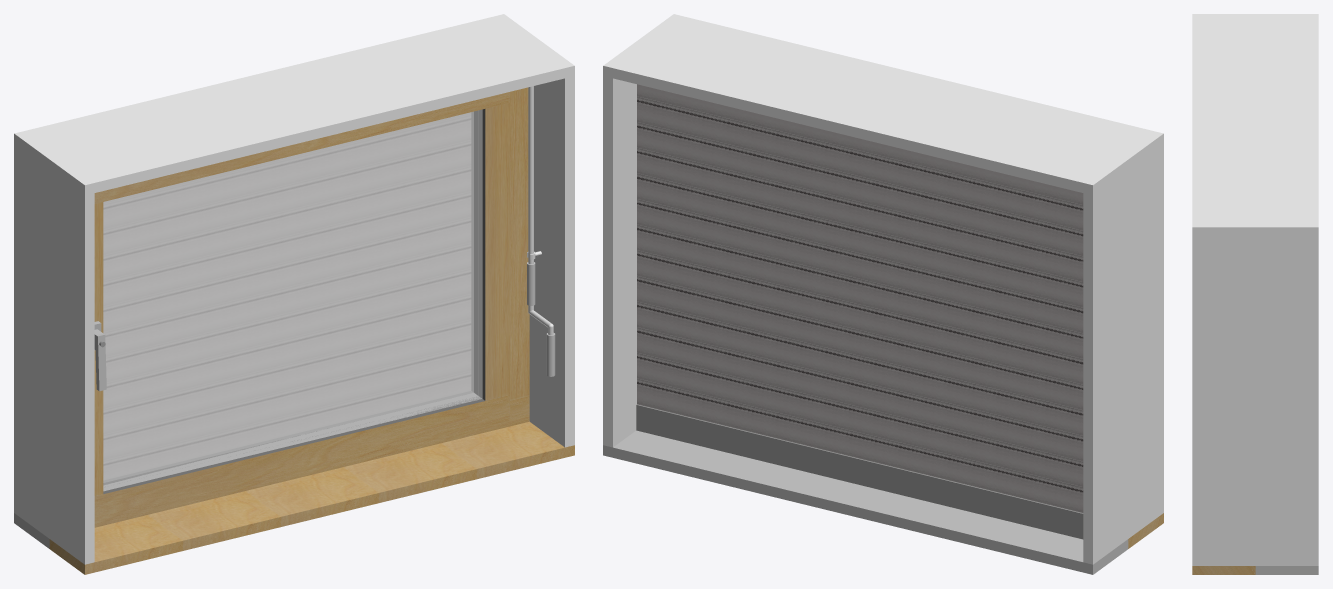
The model's file is sweethome3d-contributions-small-window.glb.
3 renders of one model, left to right at view 1: azimuth 30°, elevation 25°; view 2: azimuth 150°, elevation 25°; view 3: azimuth 270°, elevation 25°, orthographic. The views are drawn at different scales.
Parts seen in each view (by area): view 1: sweethome3d_opening_on_hinge_1_Window_Pane_wall_1_1_1_28_174, sweethome3d_opening_on_rail_1_Roller_Shutter_Foot_back_119_2, 46, 58, sweethome3d_opening_on_hinge_1_Inside_Inner_Frame_top_77_125, 70, sweethome3d_opening_on_hinge_1_Outside_Inner_Frame_top_59_14, 6, sweethome3d_opening_on_hinge_2_Roller_Shutter_Crank_Cylinde., sweethome3d_opening_on_hinge_1_Window_Handle_back_86_116; view 2: sweethome3d_opening_on_rail_1_Roller_Shutter_Foot_back_119_2, 58, 46, 76; view 3: 58, 46, 70, 76.
Boxes of the visible parts, x1,y1,x2,y2 form: sweethome3d_opening_on_hinge_1_Window_Pane_wall_1_1_1_28_174: (103,109,482,491); sweethome3d_opening_on_rail_1_Roller_Shutter_Foot_back_119_2: (103,112,470,479); 46: (49,40,574,564); 58: (14,14,538,538); sweethome3d_opening_on_hinge_1_Inside_Inner_Frame_top_77_125: (94,92,509,521); 70: (49,421,574,574); sweethome3d_opening_on_hinge_1_Outside_Inner_Frame_top_59_14: (103,109,485,493); 6: (94,87,529,527); sweethome3d_opening_on_hinge_2_Roller_Shutter_Crank_Cylinde.: (527,86,555,376); sweethome3d_opening_on_hinge_1_Window_Handle_back_86_116: (94,321,106,391); sweethome3d_opening_on_rail_1_Roller_Shutter_Foot_back_119_2: (636,84,1083,539); 58: (603,40,1128,564); 46: (639,14,1163,538); 76: (603,430,1128,574); 58: (1255,14,1318,565); 46: (1192,14,1255,565); 70: (1192,566,1255,574); 76: (1255,566,1318,574).
Size of the model in its own units: 100 by 76 by 25.
18 materials, 4 textured.
